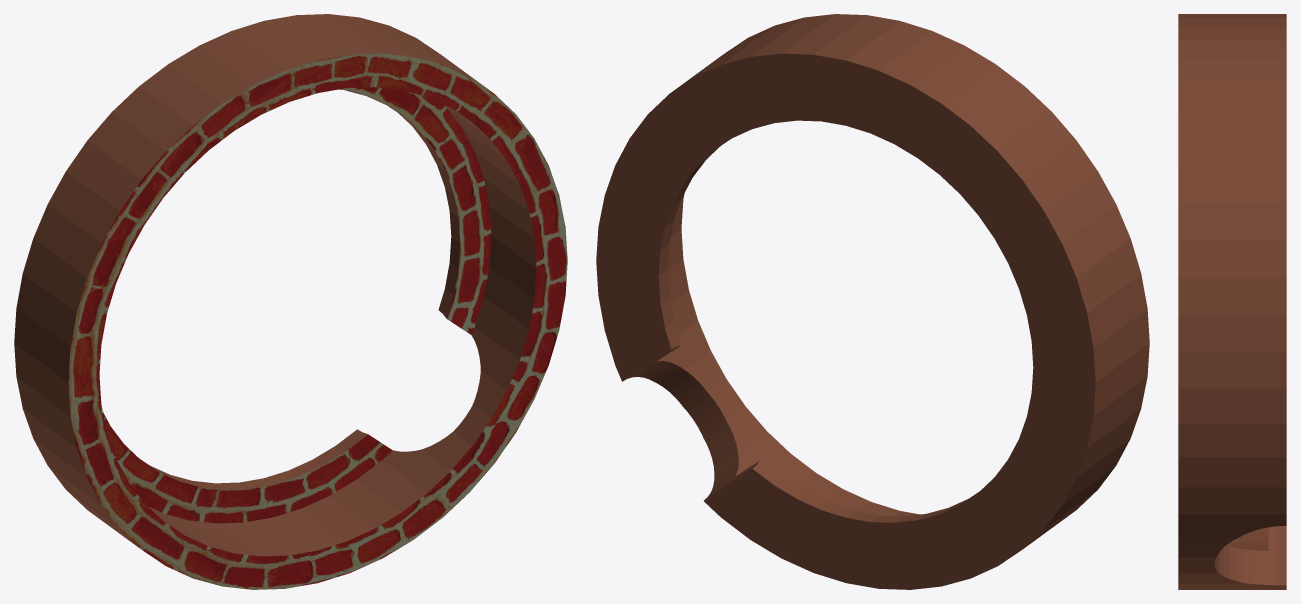
The model's file is pool_008.obj.
The picture shows the model from 3 angles, left to right: view 1: azimuth 30°, elevation 25°; view 2: azimuth 150°, elevation 25°; view 3: azimuth 270°, elevation 25°; orthographic projection.
Size of the model in its own units: 16 by 16 by 3.
